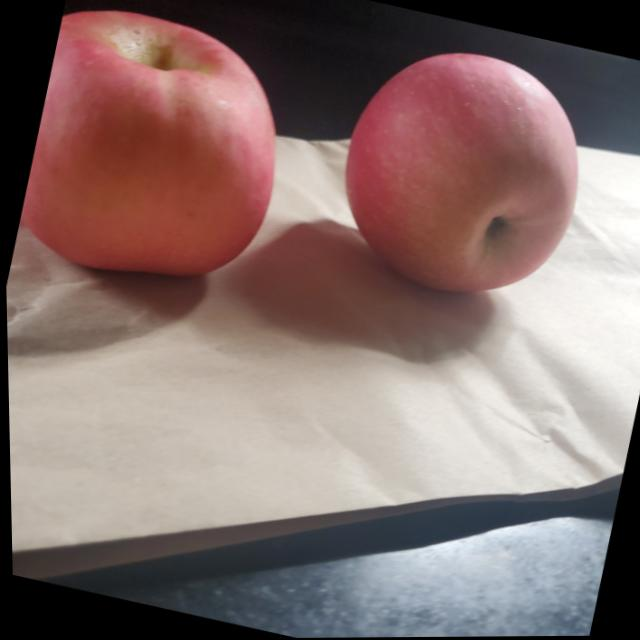apple: (11, 0, 306, 299), (319, 29, 604, 317)
